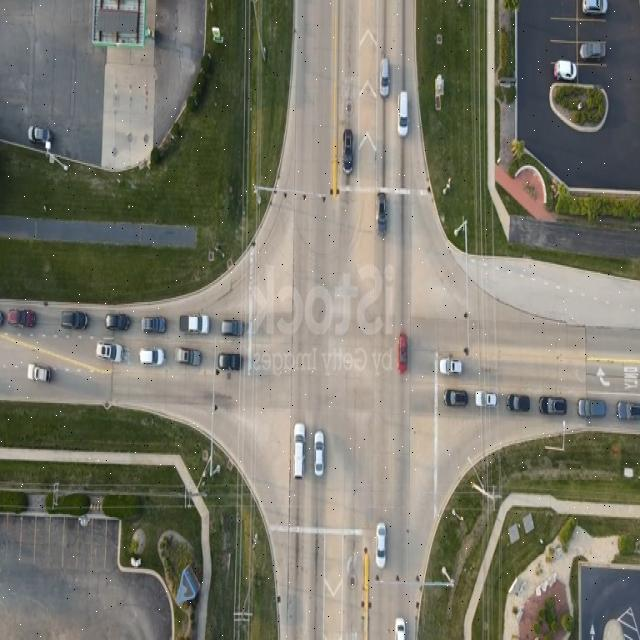car: (292, 426, 304, 480), (396, 91, 408, 138), (578, 398, 606, 418), (7, 309, 35, 329), (538, 396, 566, 416), (181, 315, 209, 335), (312, 432, 324, 478), (28, 127, 52, 149), (96, 344, 122, 364), (62, 311, 88, 331), (616, 403, 640, 424), (218, 353, 243, 373), (392, 339, 404, 379), (140, 317, 166, 335), (28, 364, 52, 383), (343, 131, 353, 176), (377, 193, 387, 238), (376, 523, 386, 567), (554, 61, 576, 81), (139, 349, 163, 367), (176, 349, 200, 367), (105, 314, 129, 332), (504, 396, 528, 414), (220, 320, 243, 338), (440, 358, 463, 376), (582, 0, 607, 16), (397, 335, 407, 375), (380, 60, 390, 98), (446, 391, 468, 408), (476, 391, 496, 407), (394, 620, 406, 640)
pickup-truck: (578, 40, 606, 60)
